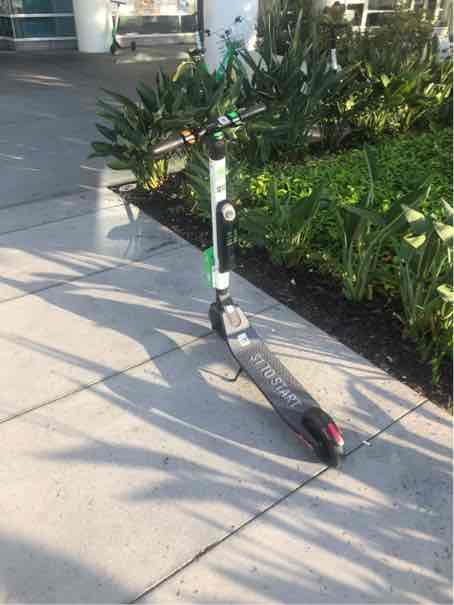scooter: (145, 100, 368, 473)
